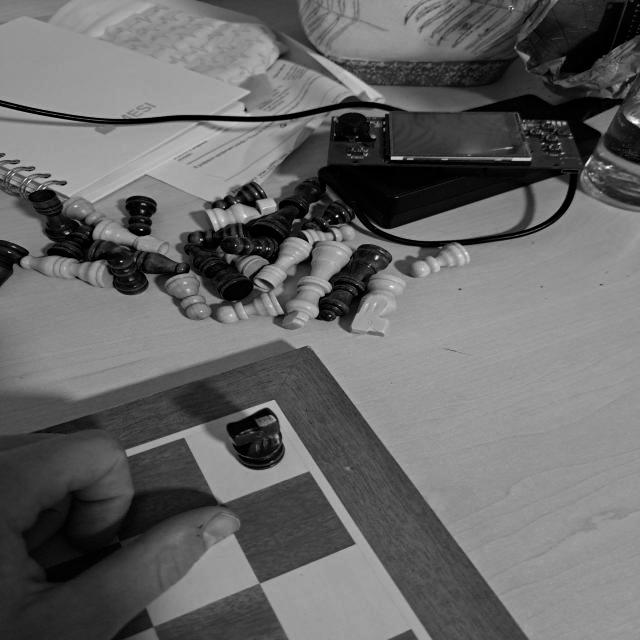chess-table-corners: (266, 394, 282, 406)
